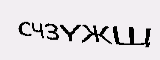С: (30, 21, 50, 44)
Т: (63, 18, 81, 42)
Х: (49, 20, 66, 47)
Ш: (78, 16, 99, 42)
Ю: (99, 14, 122, 40)
